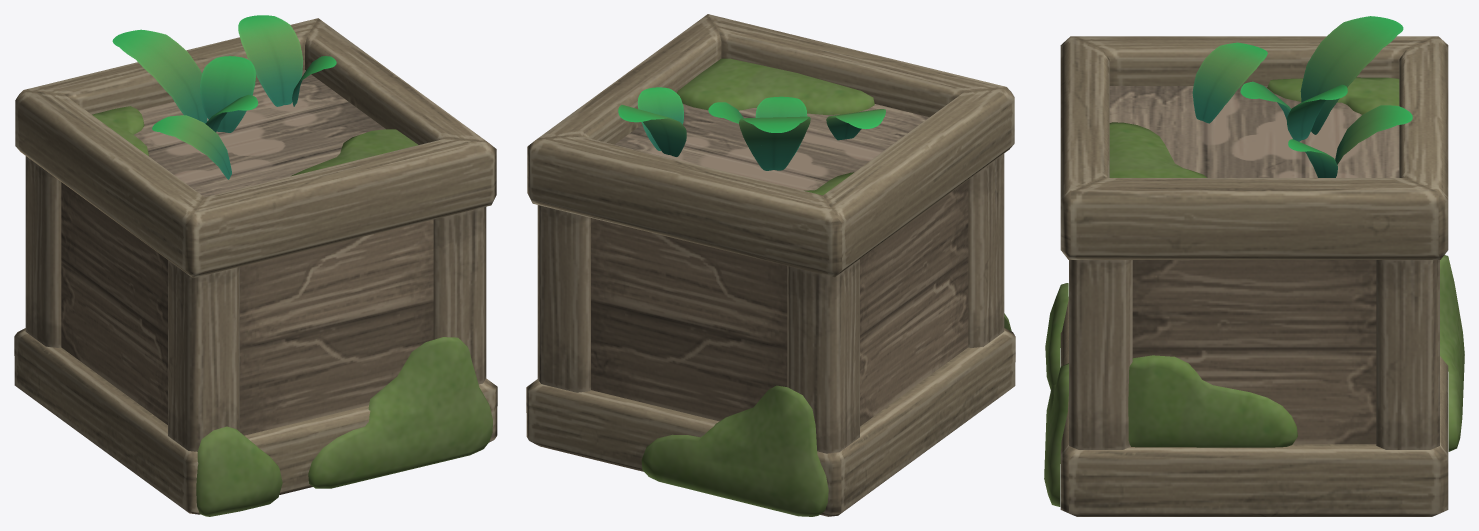
The model's file is m_jiudao_pozhiwuxiang_01.fbx.
3 views of the same model, side by side, from view 1: azimuth 30°, elevation 25°; view 2: azimuth 150°, elevation 25°; view 3: azimuth 270°, elevation 25° (orthographic). The views are drawn at different scales.
Visible parts, largest first — view 1: m_jiudao_pozhiwuxiang_01; view 2: m_jiudao_pozhiwuxiang_01; view 3: m_jiudao_pozhiwuxiang_01.
Part boxes in pixels (x1,y1,x2,y2): m_jiudao_pozhiwuxiang_01: (14, 15, 497, 516); m_jiudao_pozhiwuxiang_01: (526, 14, 1015, 516); m_jiudao_pozhiwuxiang_01: (1044, 16, 1464, 516).
Bounding box in the file's own units: 66.34 × 71.64 × 72.01.
1 material, 1 textured.
